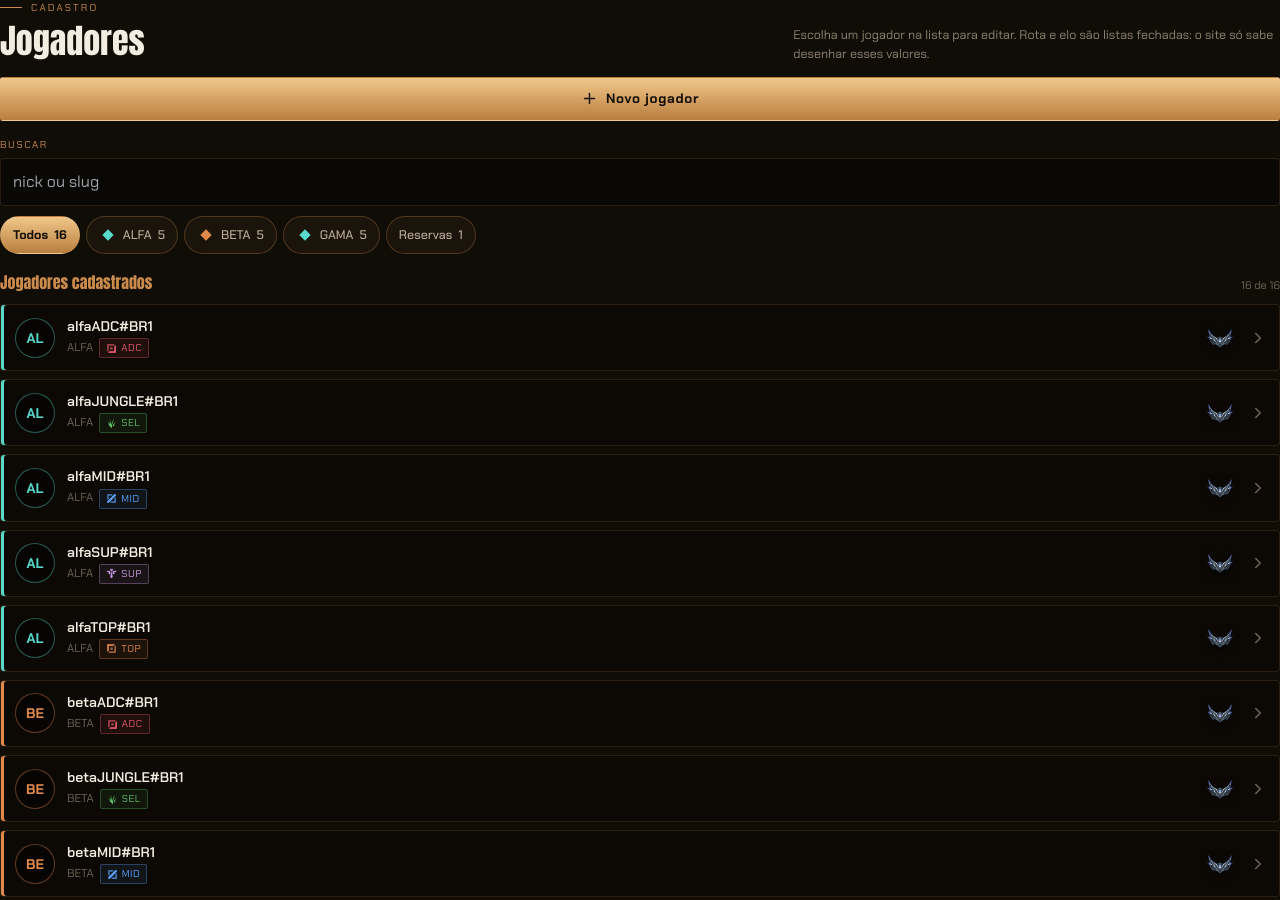
Test: trocar pelo campo Time o time de quem já jogou › celular: a mesma trava dentro da folha
This screenshot has width=1280, height=900.
Click the button "alfaTOP#BR1" at point(109, 627), box [67,618,1191,636]
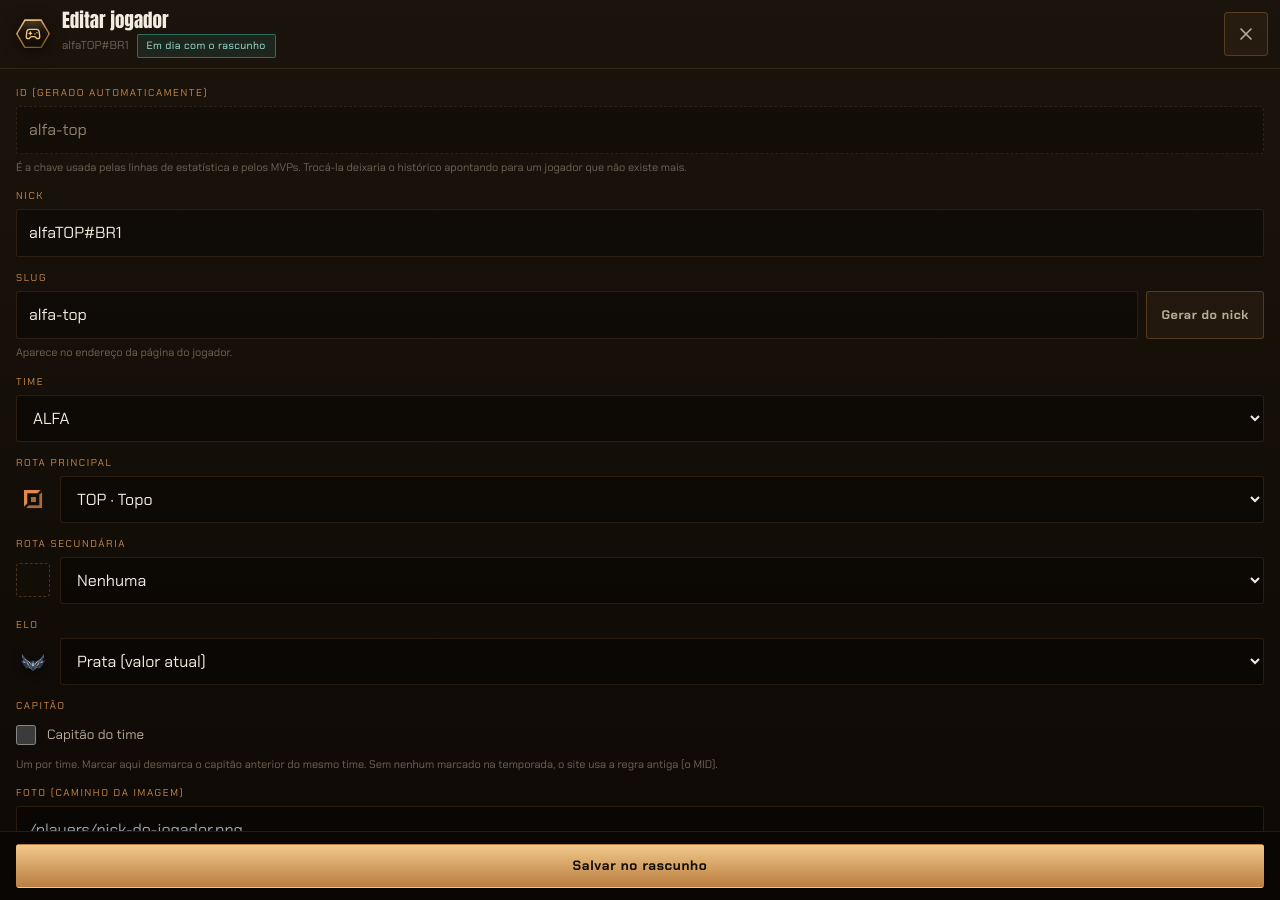
Select "GAMA" in the dropdown labelled "Time" at point(640, 418), box [16,395,1264,442]
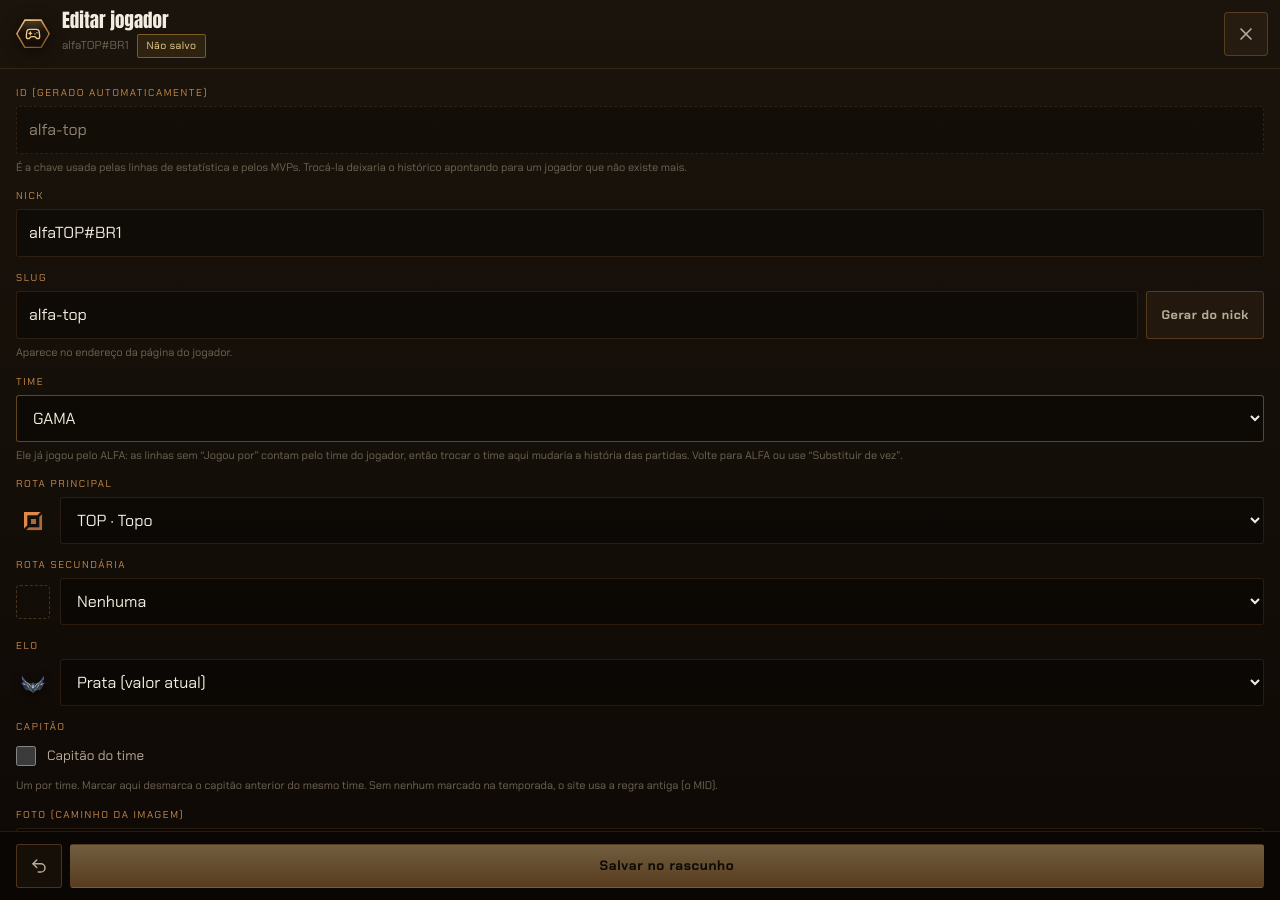
Expected: the button "Salvar no rascunho" is disabled, [70,844,1264,888]
